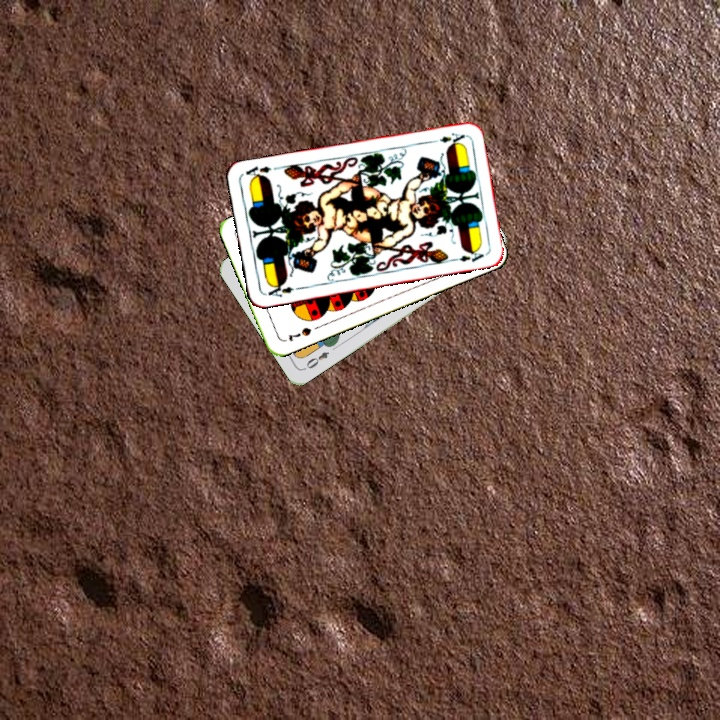EA: (427, 128, 468, 147), (264, 279, 296, 300)
EO: (300, 347, 332, 373)
S7: (284, 323, 314, 344)
